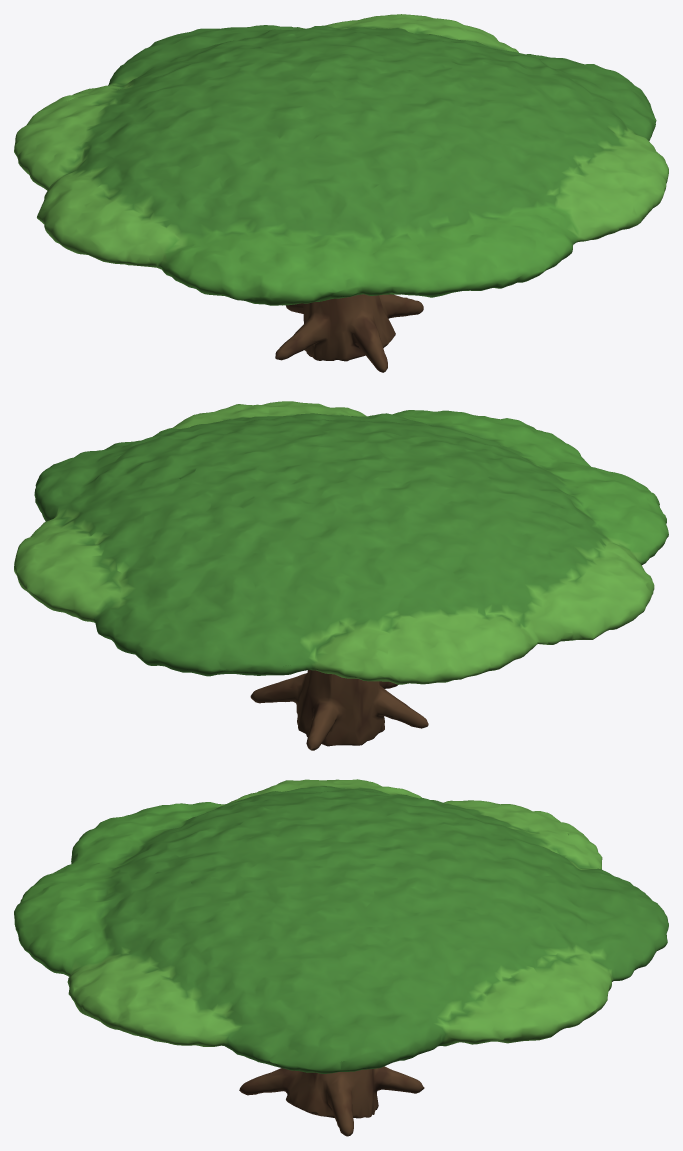
File: broadleaf_wide_low.glb
3 renders of one model, top to bottom at view 1: azimuth 30°, elevation 25°; view 2: azimuth 150°, elevation 25°; view 3: azimuth 270°, elevation 25°, orthographic.
Visible parts, largest first — view 1: broadleaf_wide_low_LOD0; view 2: broadleaf_wide_low_LOD0; view 3: broadleaf_wide_low_LOD0.
Boxes of the visible parts, bbox=[...] form: broadleaf_wide_low_LOD0: bbox=[14, 14, 668, 372]; broadleaf_wide_low_LOD0: bbox=[14, 401, 668, 750]; broadleaf_wide_low_LOD0: bbox=[14, 779, 668, 1136].
Size of what is drawn, in the model's own units: 6.34 by 2.63 by 6.18.
